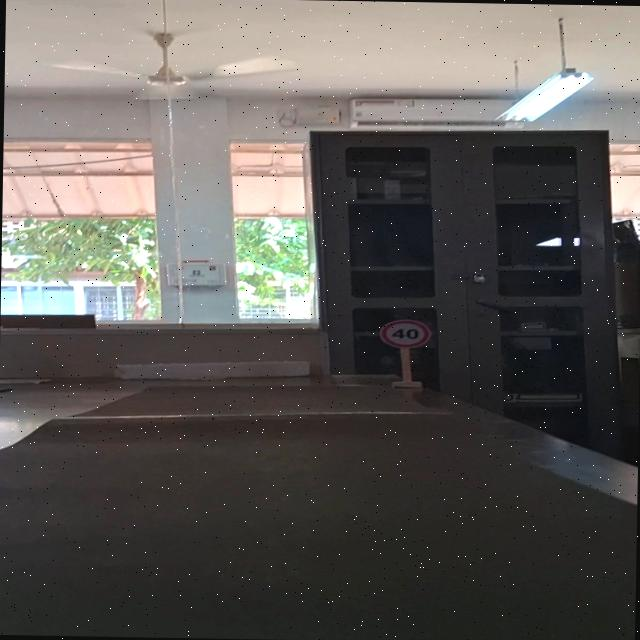Speed40: (376, 316, 434, 350)
